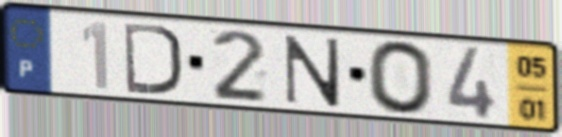1: (80, 19, 110, 92)
2: (208, 28, 272, 105)
4: (444, 44, 500, 122)
D: (120, 19, 186, 98)
N: (282, 32, 343, 109)
O: (364, 38, 438, 118)
